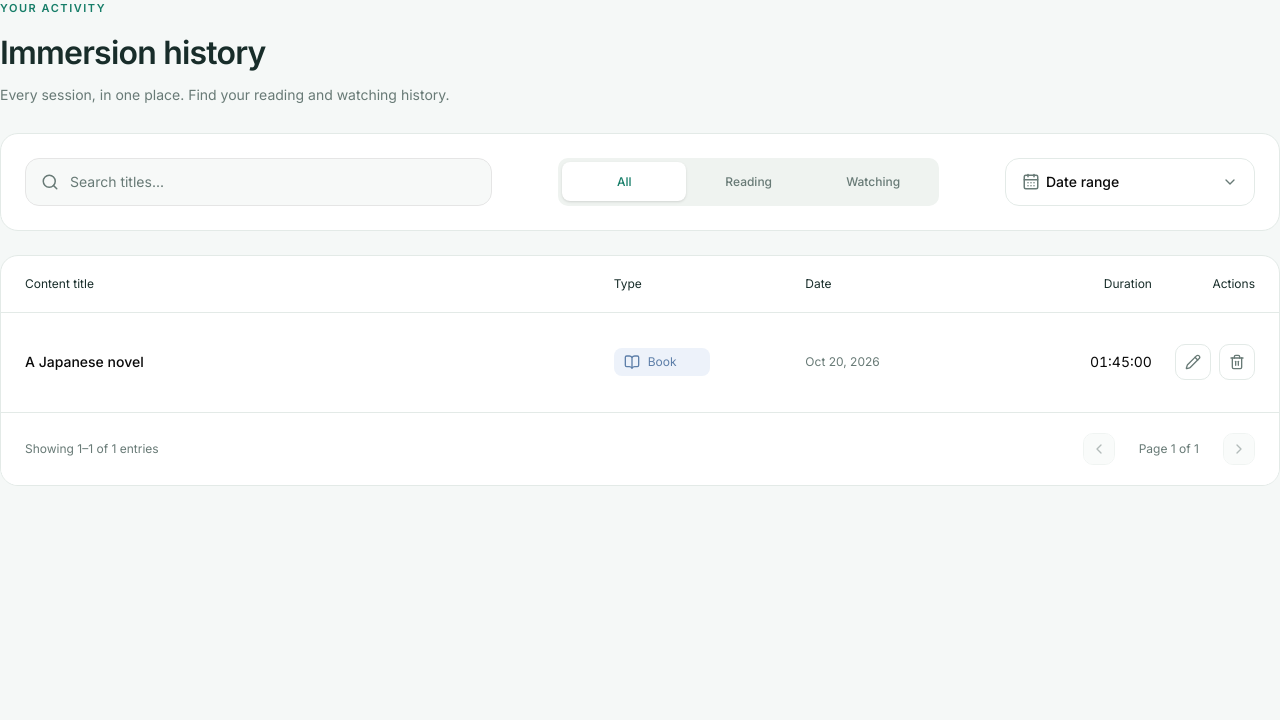
History › applies a selected UTC date range to the displayed history
Expected: the link "A Japanese novel" is shown, [25, 353, 144, 370]
Click the button "Date range": (1130, 182) [1005, 158, 1255, 206]
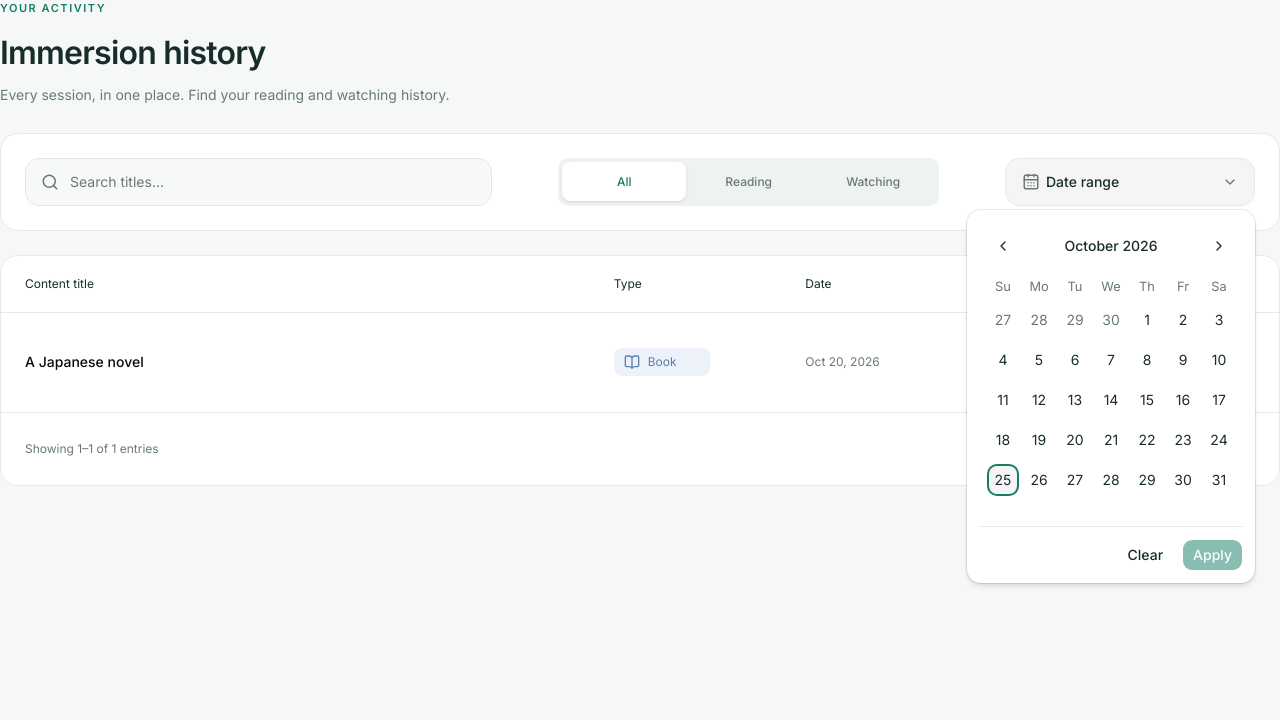
Click the button named "October 10th, 2026": (1219, 360) [1203, 344, 1235, 376]
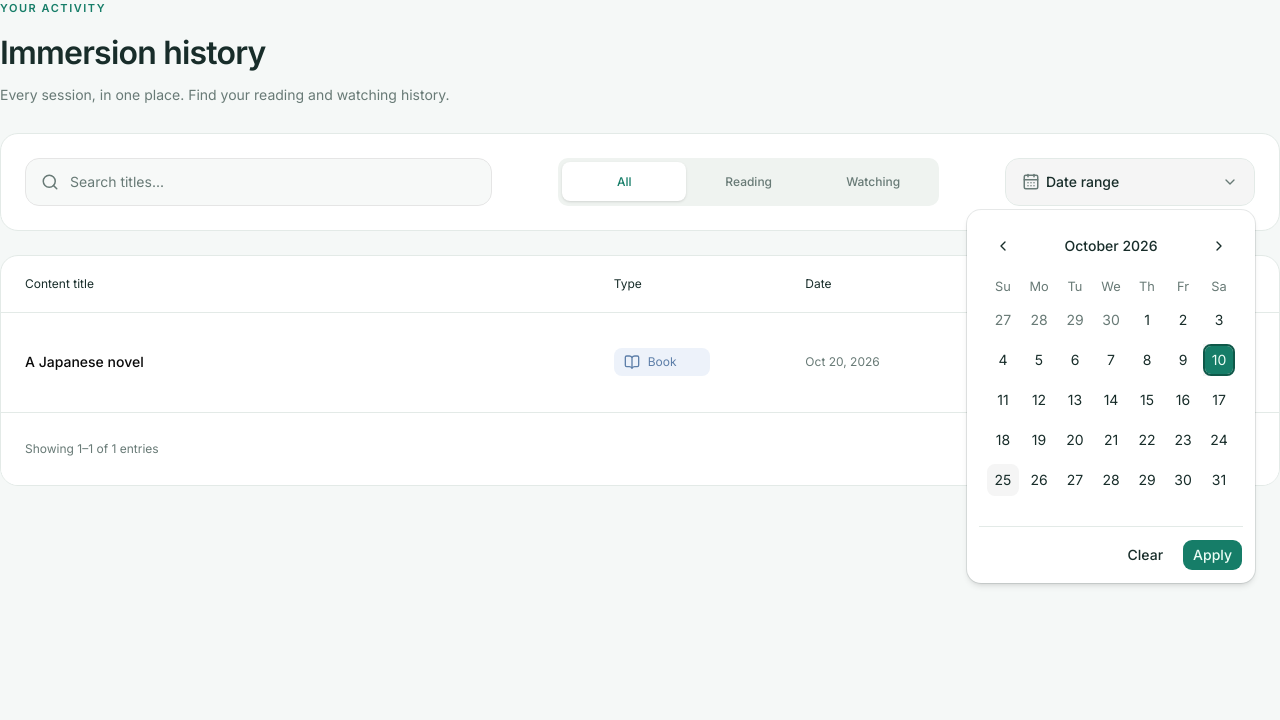
Click the button named "October 12th, 2026": (1039, 400) [1023, 384, 1055, 416]
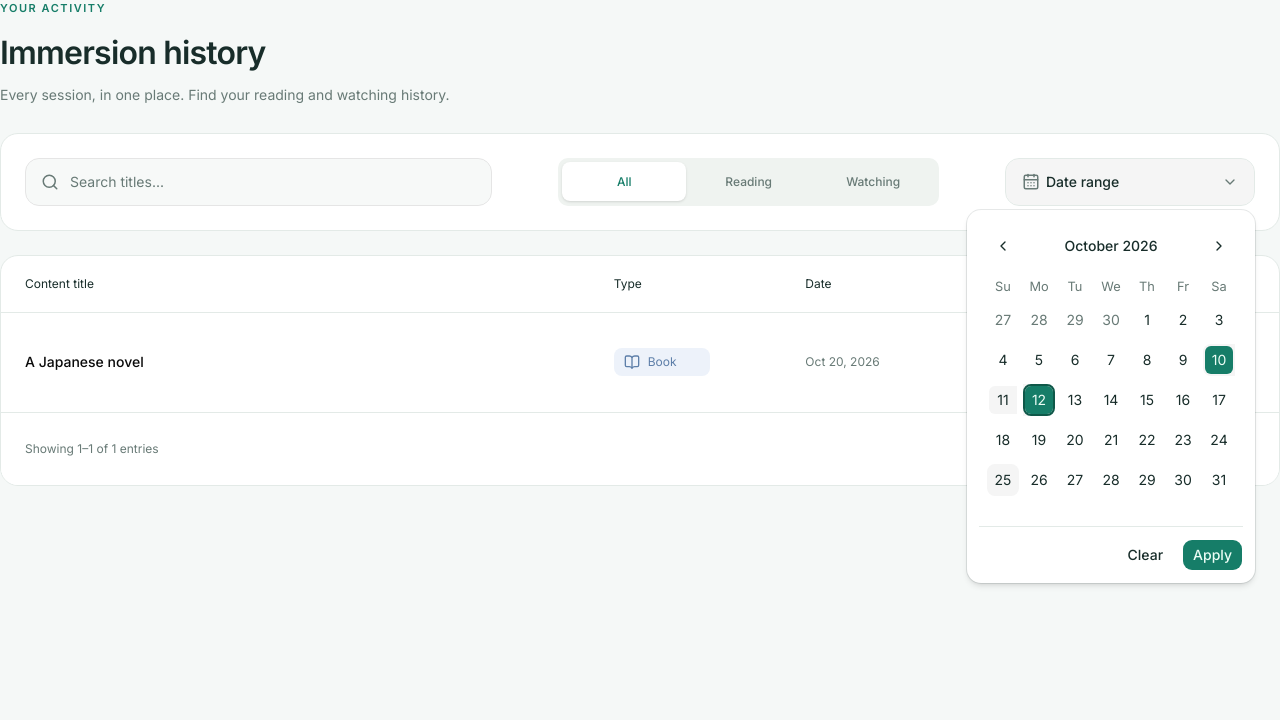
Click the button "Apply": (1213, 555) [1182, 539, 1243, 571]
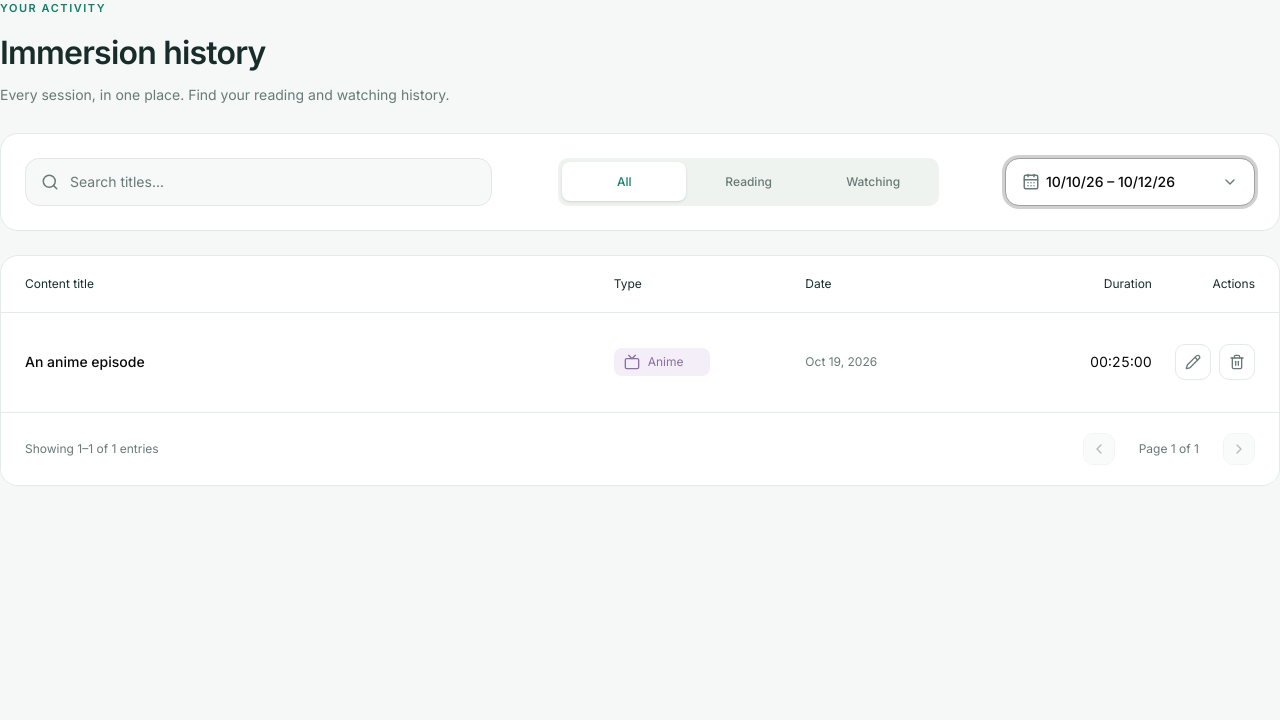
Expected: the button "10/10/26 – 10/12/26" is shown, [1005, 158, 1255, 206]
Expected: the link "An anime episode" is shown, [25, 353, 145, 370]
